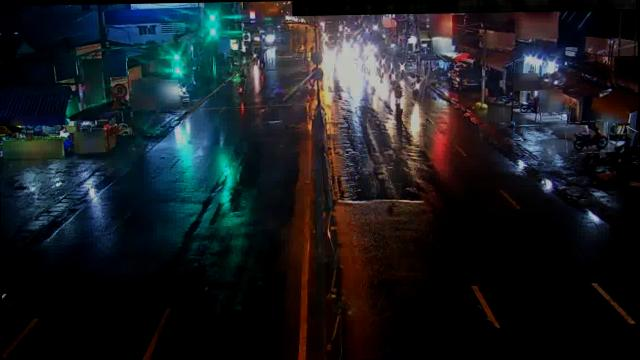Bike: (566, 121, 610, 154), (412, 74, 426, 102), (395, 78, 404, 103), (238, 78, 245, 94)
